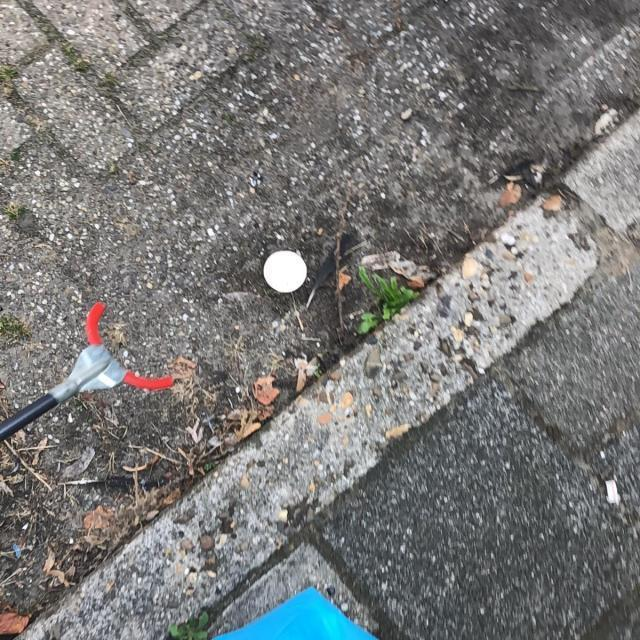Paper: (262, 249, 308, 294)
